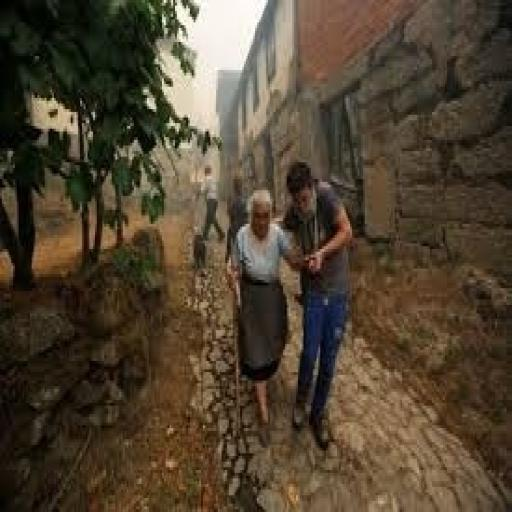running: (225, 184, 315, 448), (279, 157, 356, 453)
